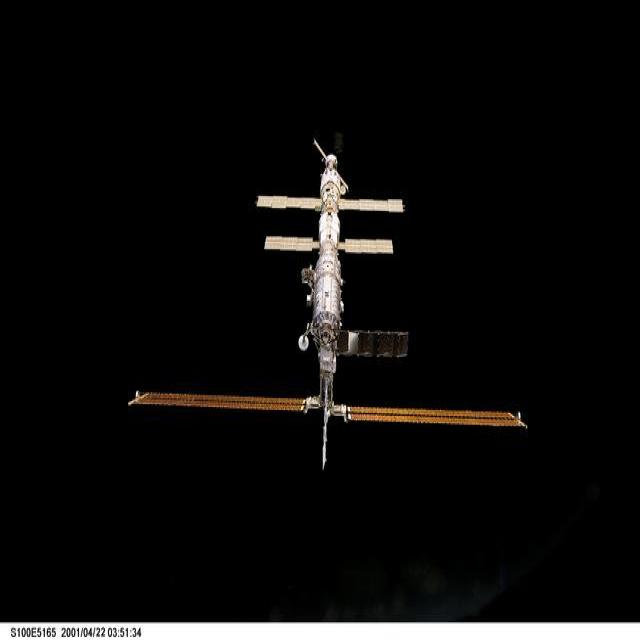satellite: (129, 149, 526, 467)
